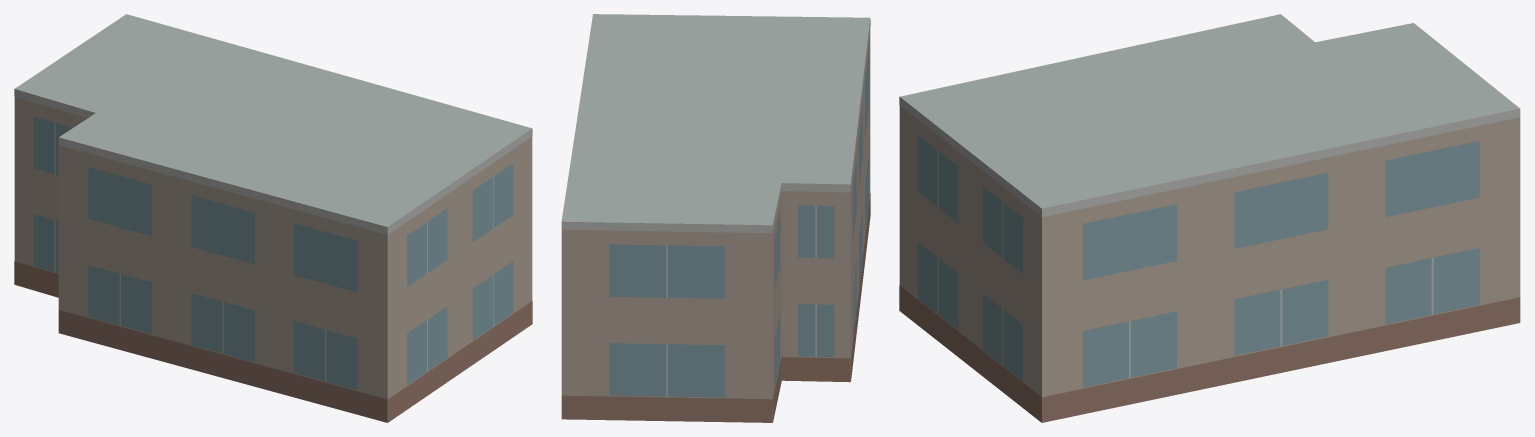
The model's file is survey-upis-32902478.glb.
3 views of the same model, side by side, from view 1: azimuth 30°, elevation 25°; view 2: azimuth 150°, elevation 25°; view 3: azimuth 270°, elevation 25° (orthographic). The views are drawn at different scales.
Parts seen in each view (by area): view 1: survey-upis-32902478.tmp; view 2: survey-upis-32902478.tmp; view 3: survey-upis-32902478.tmp.
Part boxes in pixels (box(x1,y1,x2,y2)): survey-upis-32902478.tmp: box(14, 14, 532, 422); survey-upis-32902478.tmp: box(561, 14, 870, 422); survey-upis-32902478.tmp: box(899, 14, 1520, 422).
Bounding box in the file's own units: 11.9 × 6.1 × 16.03.
